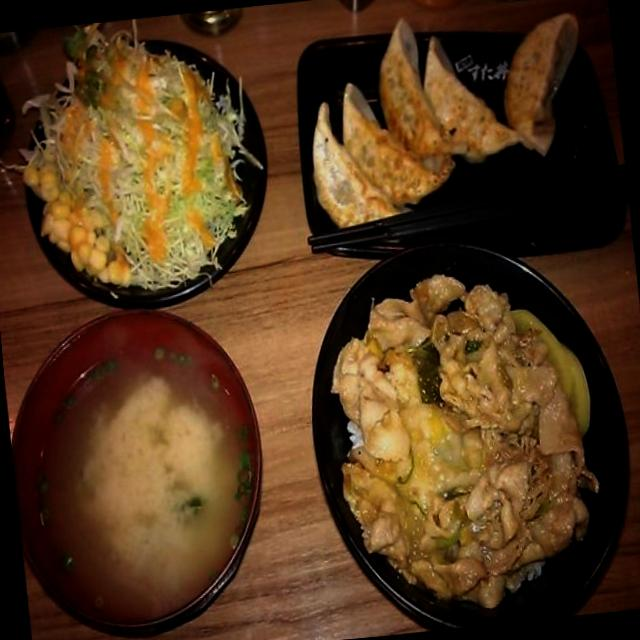Green Salad: (0, 18, 268, 308)
